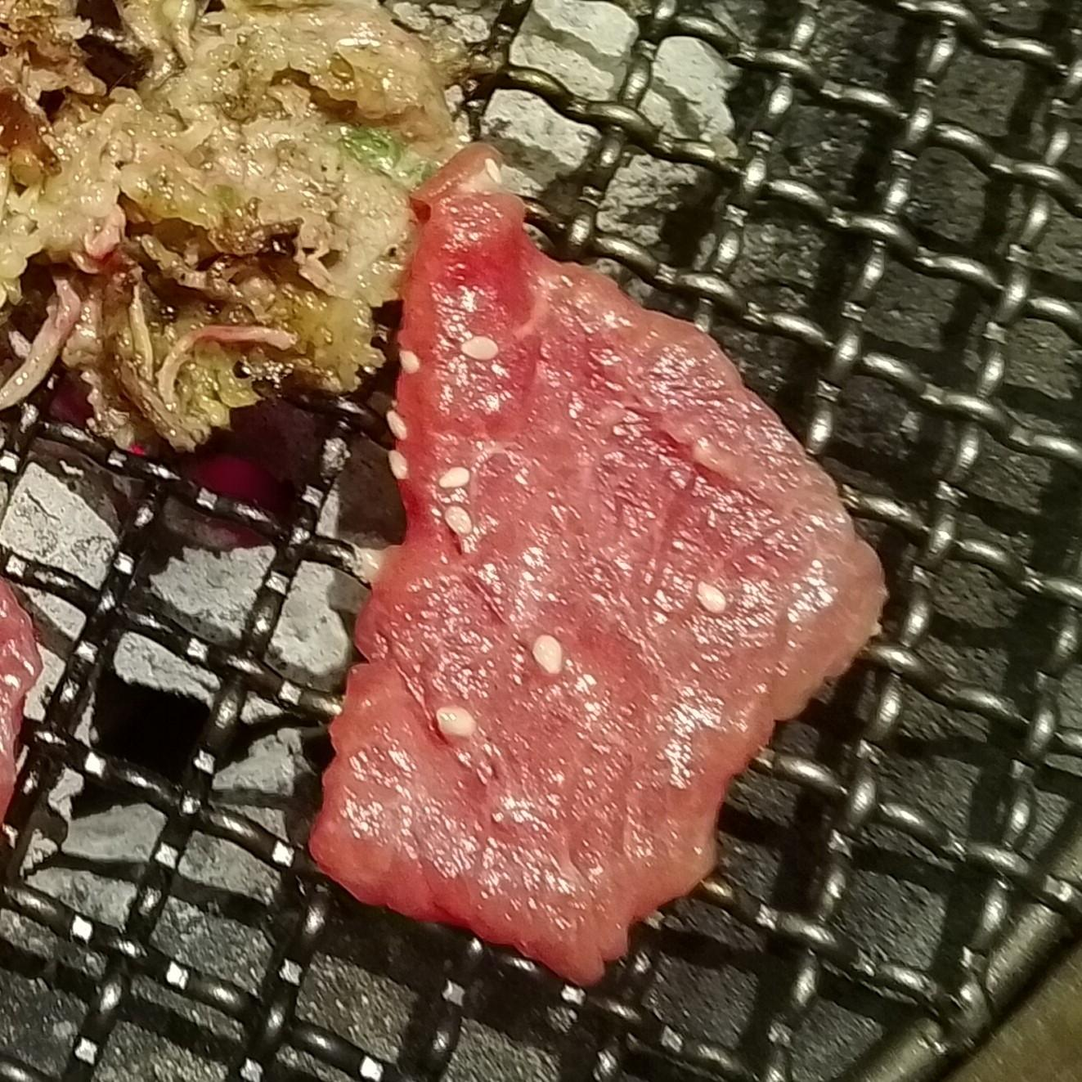Undercooked: (308, 146, 886, 990)
Well-Cooked: (45, 0, 465, 456)
